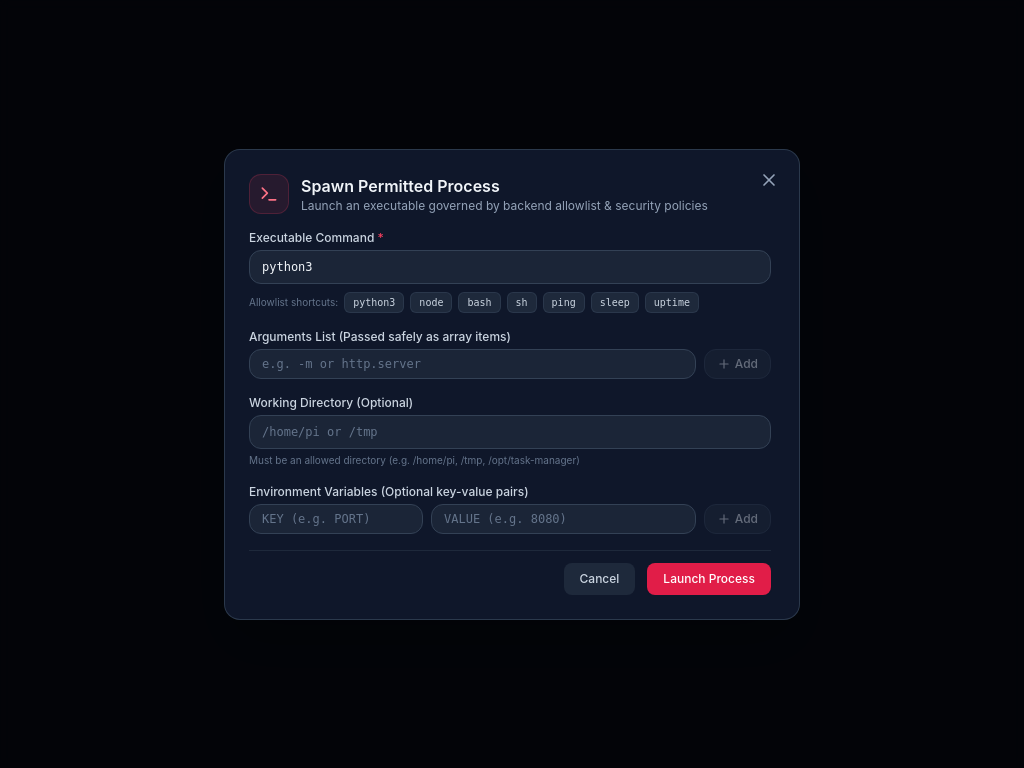
Test: CreateProcessDialog › Error path: API failure shows error message in UI › shows "Executable command is required" when command is cleared and submitted
This screenshot has width=1024, height=768.
Clear the field with placeholder "e.g. python3": {"x": 510, "y": 266} [249,250,771,284]
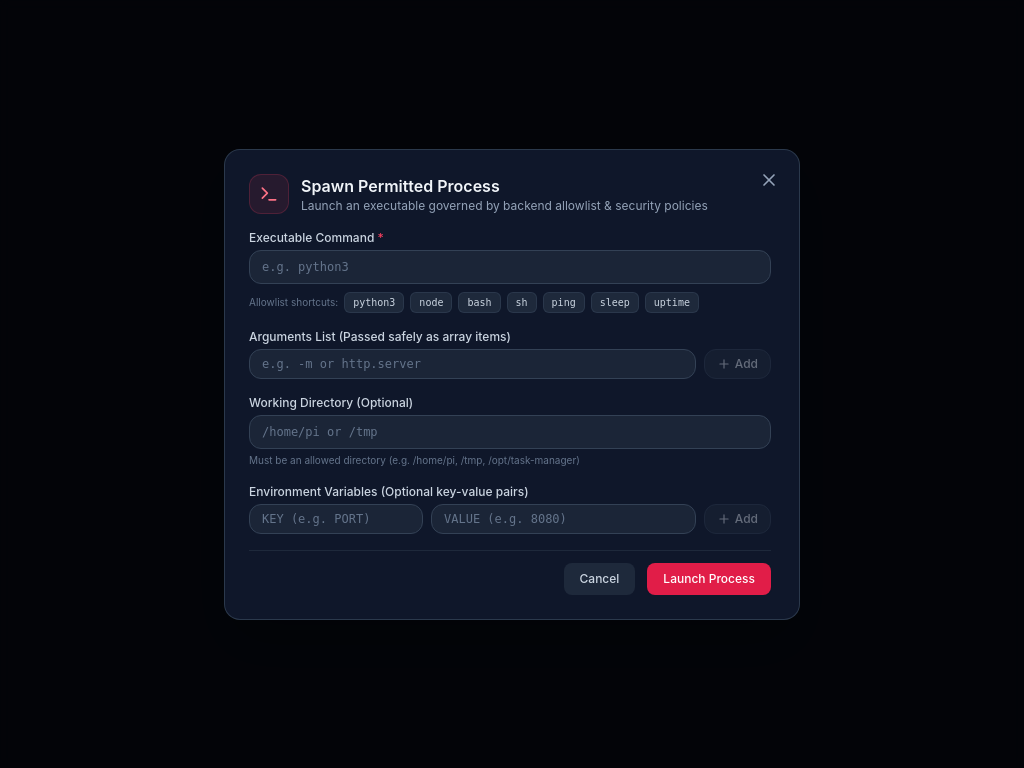
// Submit the form directly to ensure the submit event fires in JSDOM
Submit the form with placeholder "e.g. python3", box [249,230,775,594]
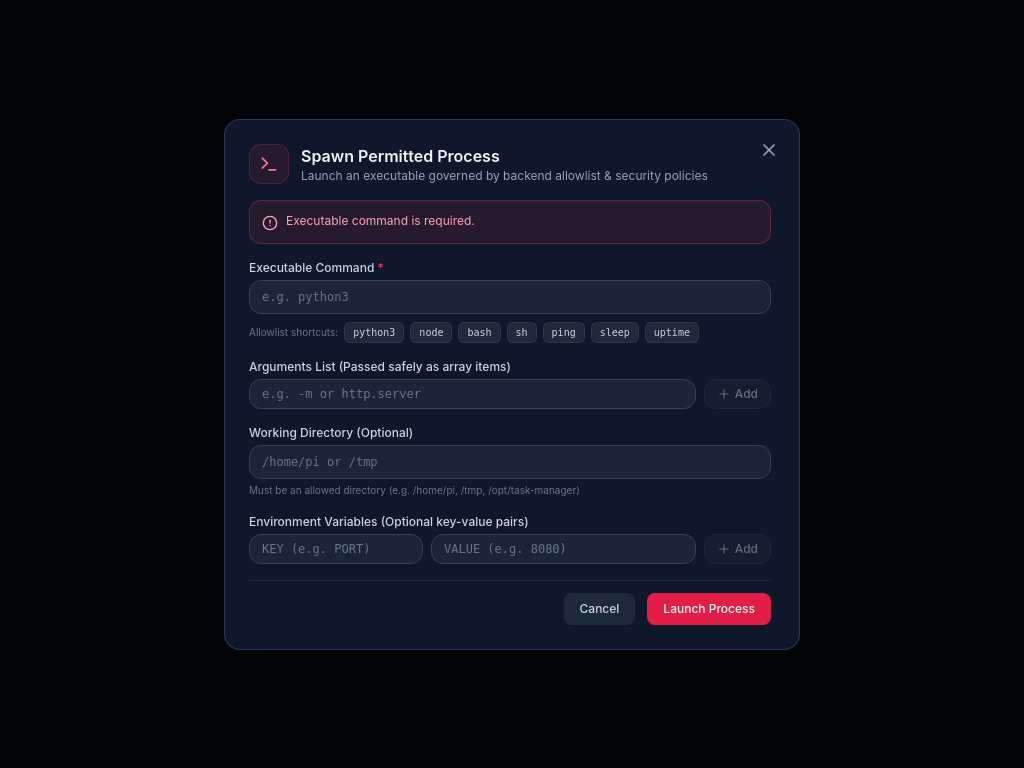
Result: the text "Executable command is required." is shown at [286,212,475,228]
